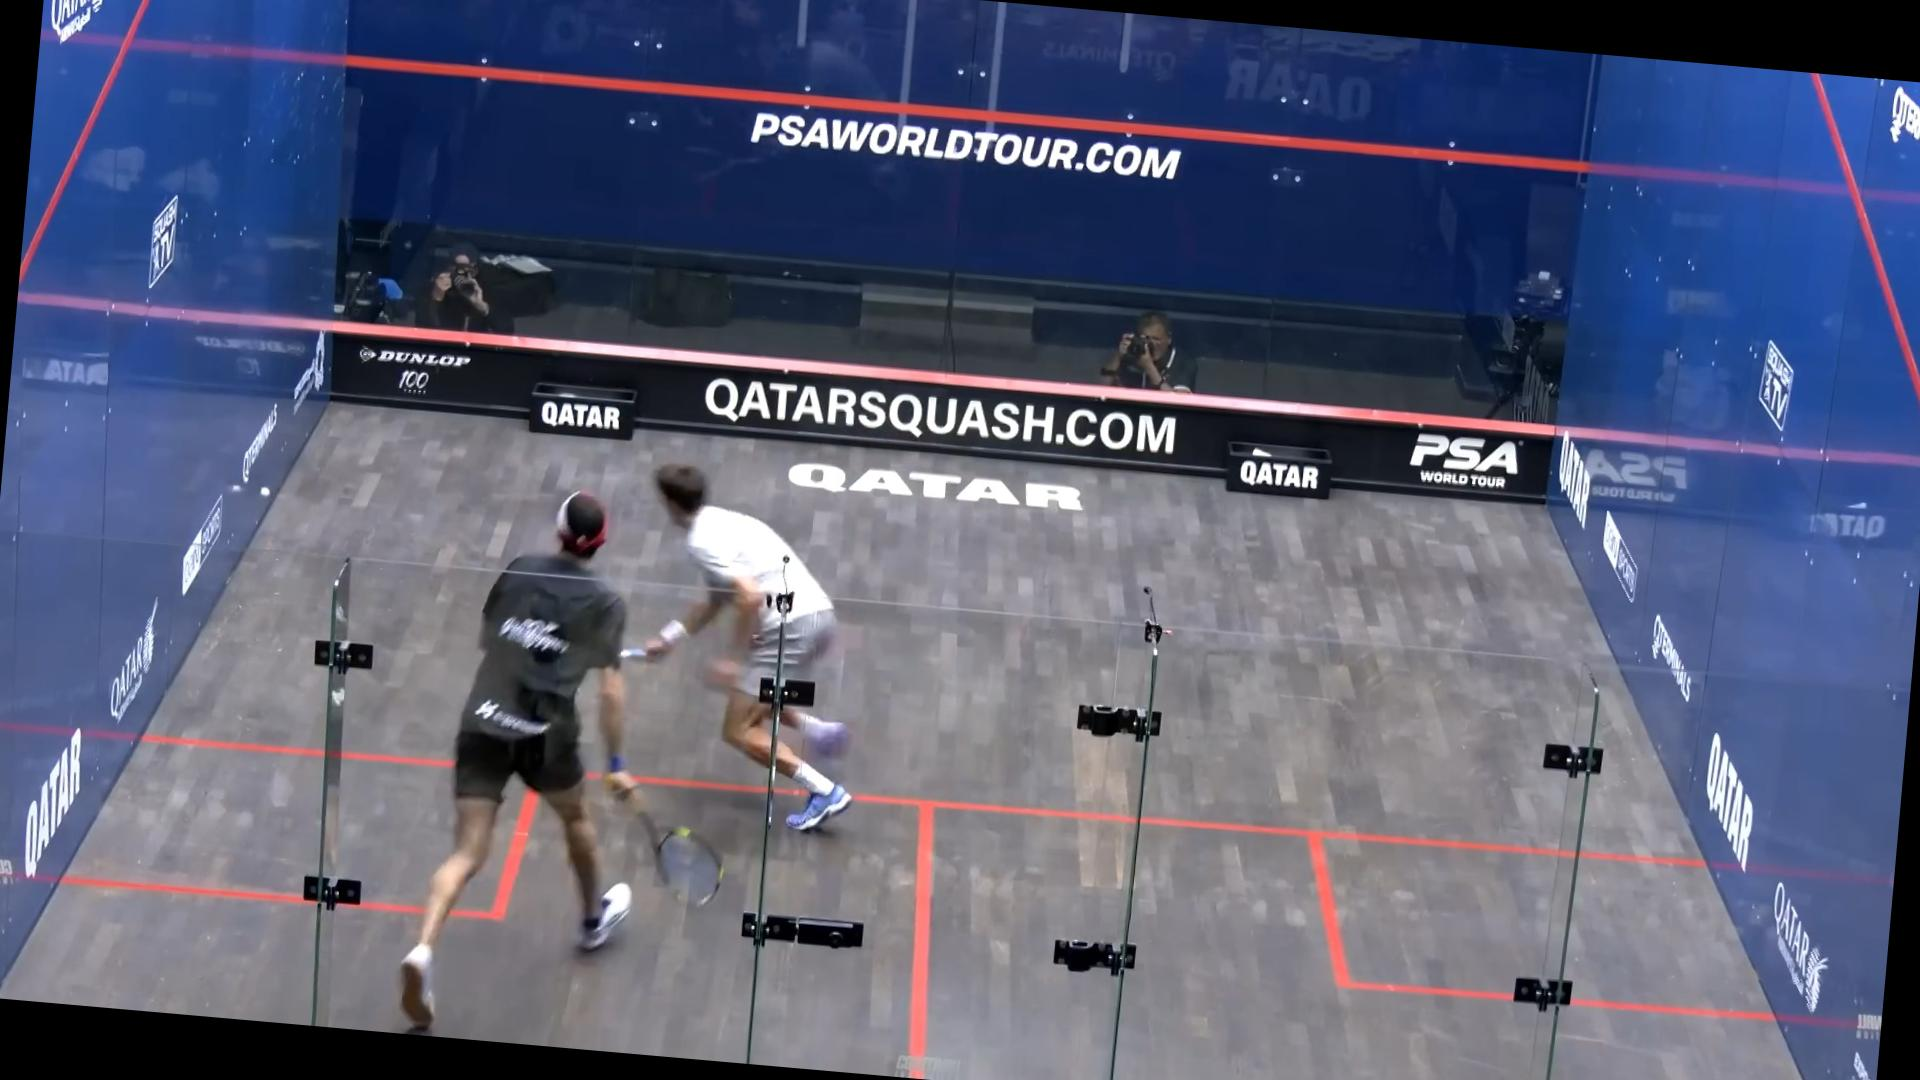Racket: (626, 808, 735, 913)
